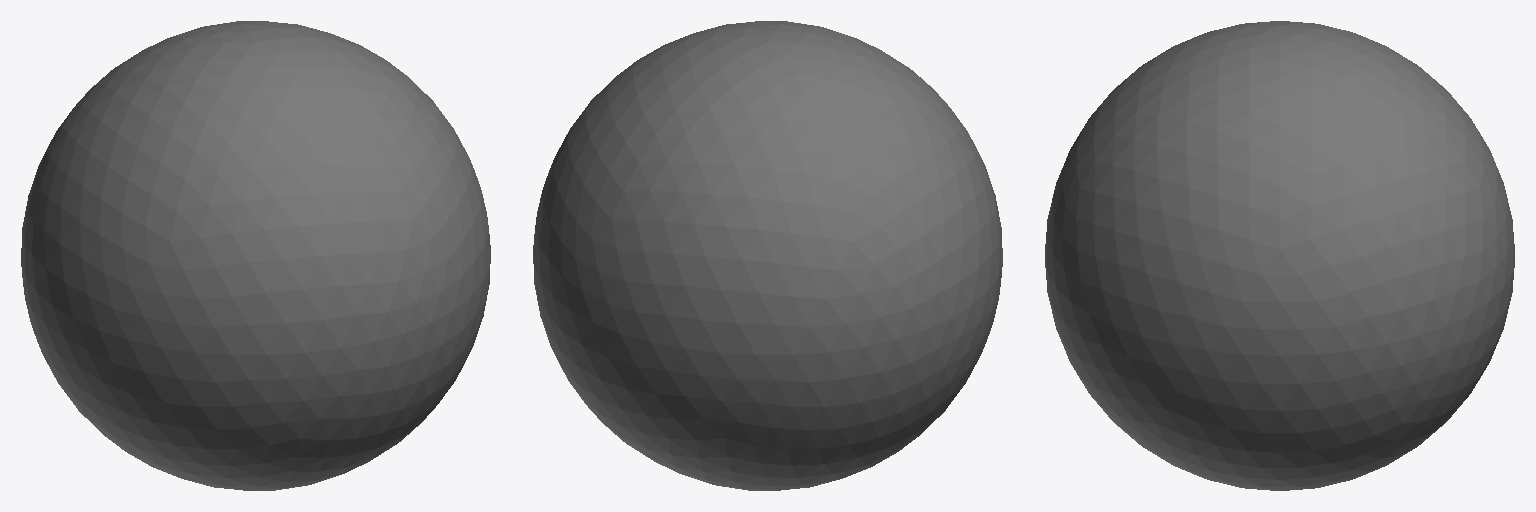
Rendered from isosphere4.obj.
3 renders of one model, left to right at view 1: azimuth 30°, elevation 25°; view 2: azimuth 150°, elevation 25°; view 3: azimuth 270°, elevation 25°, orthographic.
Bounding box in the file's own units: 0.997 × 0.9976 × 0.9972.